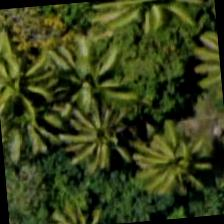Kelapa_Sawit: (52, 90, 150, 188), (38, 37, 136, 135), (126, 122, 223, 221), (127, 113, 223, 212), (0, 44, 67, 140), (105, 0, 200, 48)
